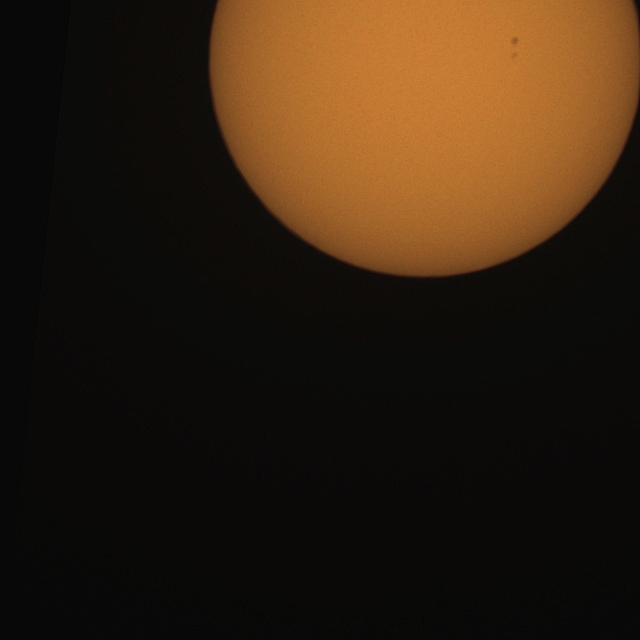sunspot: (510, 36, 520, 55)
